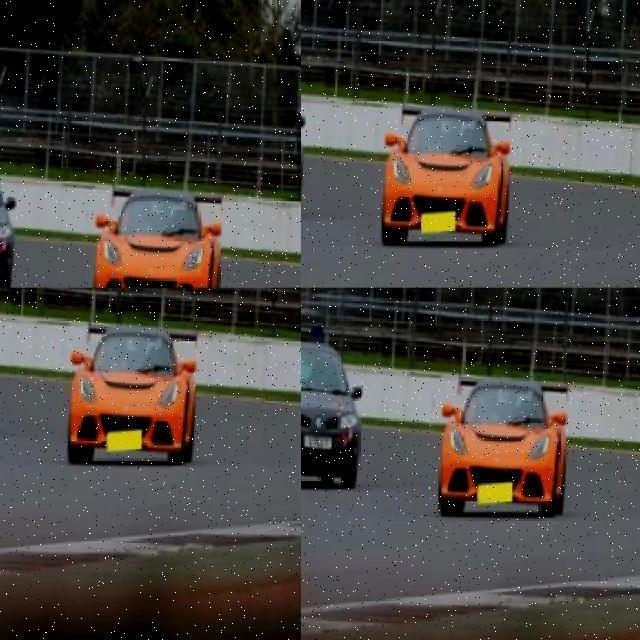LicensePlate: (420, 123, 520, 221), (15, 584, 127, 639), (482, 484, 517, 506), (306, 437, 333, 450)
